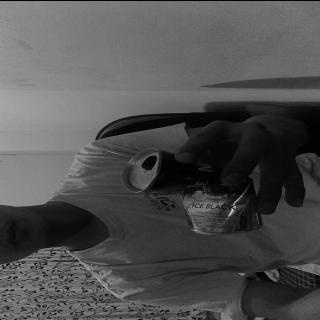alumunium_can: (120, 148, 262, 236)
